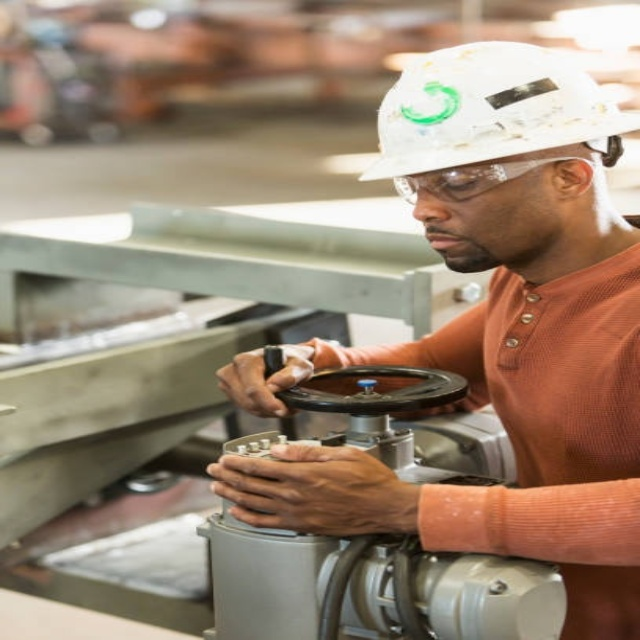Gafas: (391, 154, 589, 208)
Sin_guantes: (209, 442, 407, 536), (217, 341, 325, 419)
Sin_mascara: (419, 221, 491, 269)
